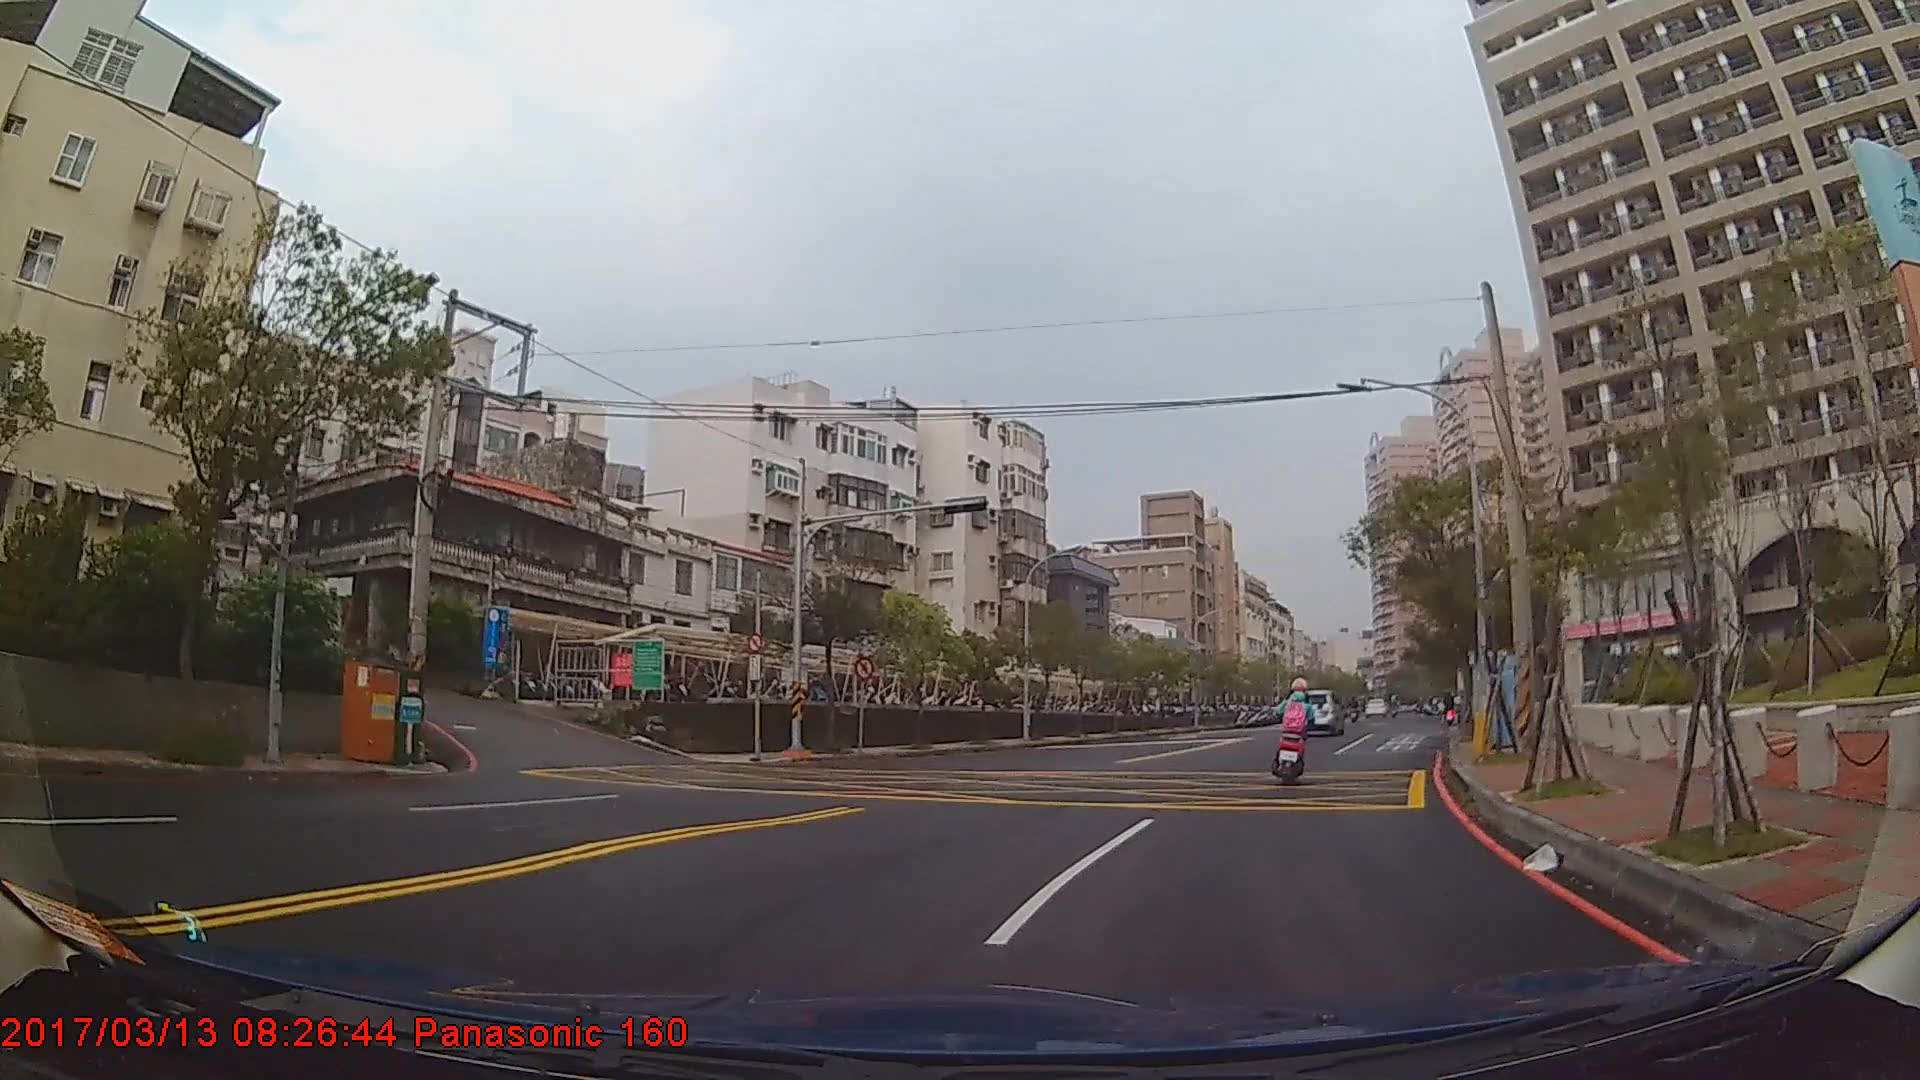rider: (1272, 679, 1320, 783)
vehicle: (1285, 686, 1348, 735)
